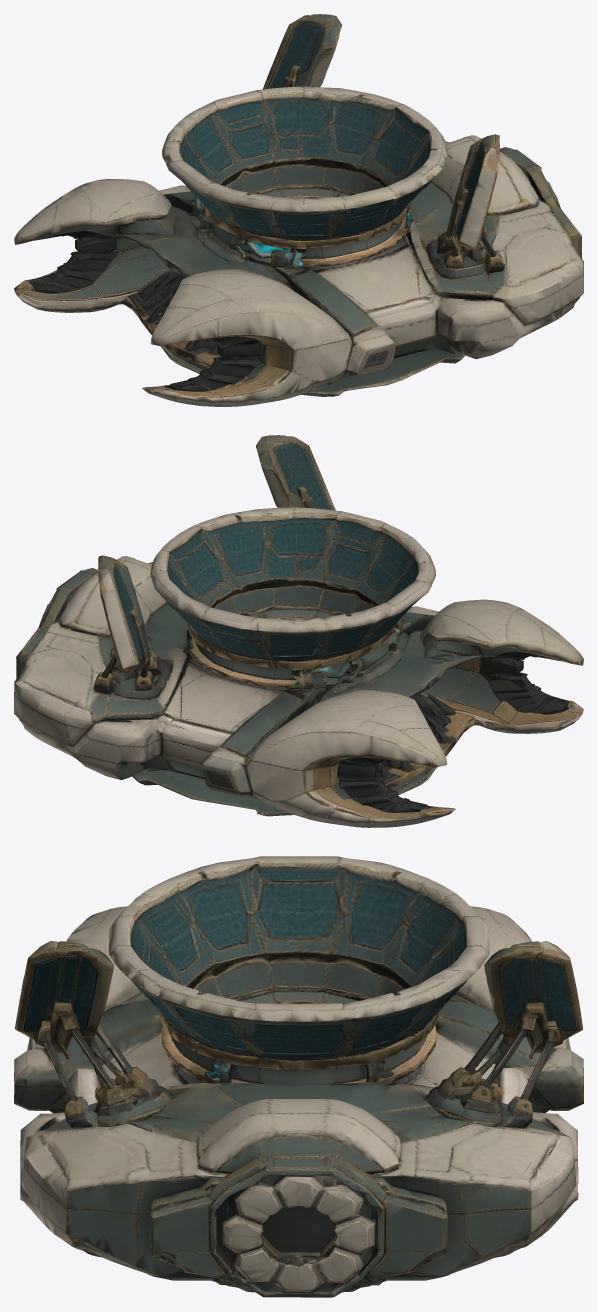
Rendered from sun-collector.glb.
The picture shows the model from 3 angles, top to bottom: view 1: azimuth 30°, elevation 25°; view 2: azimuth 150°, elevation 25°; view 3: azimuth 270°, elevation 25°; orthographic projection. The views are drawn at different scales.
Parts seen in each view (by area): view 1: Hull; view 2: Hull; view 3: Hull.
Part boxes in pixels (box(x1,y1,x2,y2)): Hull: box(14, 14, 583, 406); Hull: box(14, 435, 583, 827); Hull: box(14, 856, 583, 1297).
Bounding box in the file's own units: 2 × 1.05 × 1.63.
Materials: 1 (1 with a texture image).
